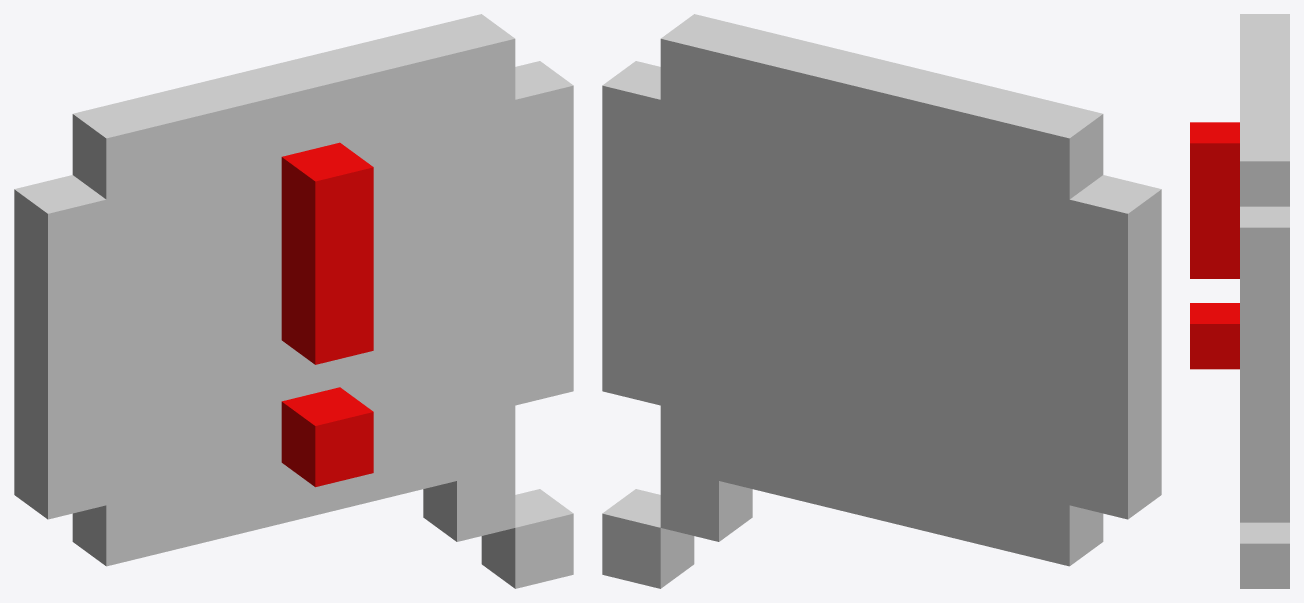
Rendered from Quest.obj.
3 views of the same model, side by side, from view 1: azimuth 30°, elevation 25°; view 2: azimuth 150°, elevation 25°; view 3: azimuth 270°, elevation 25° (orthographic). The views are drawn at different scales.
Bounding box in the file's own units: 0.9 × 0.9 × 0.2.
1 material, 1 textured.
